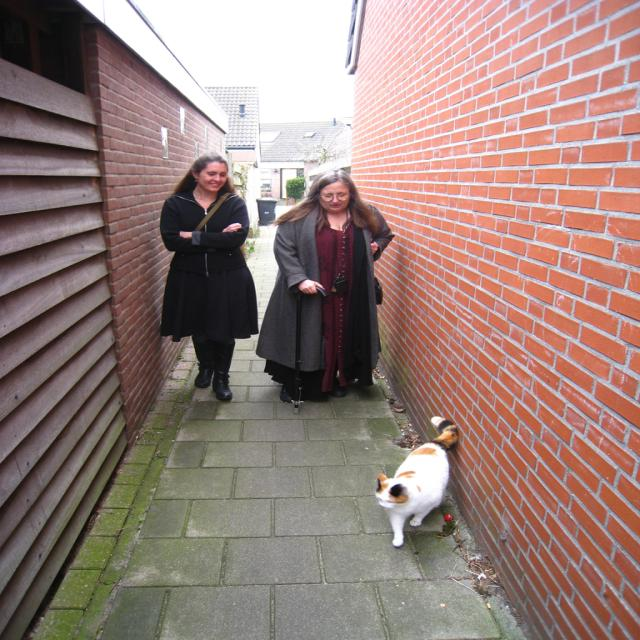Cat: (373, 413, 456, 548)
